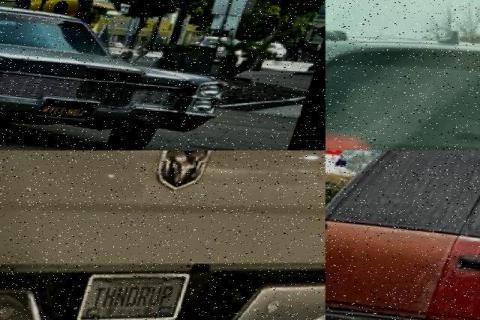LicensePlate: (79, 274, 193, 319), (41, 100, 97, 120)
